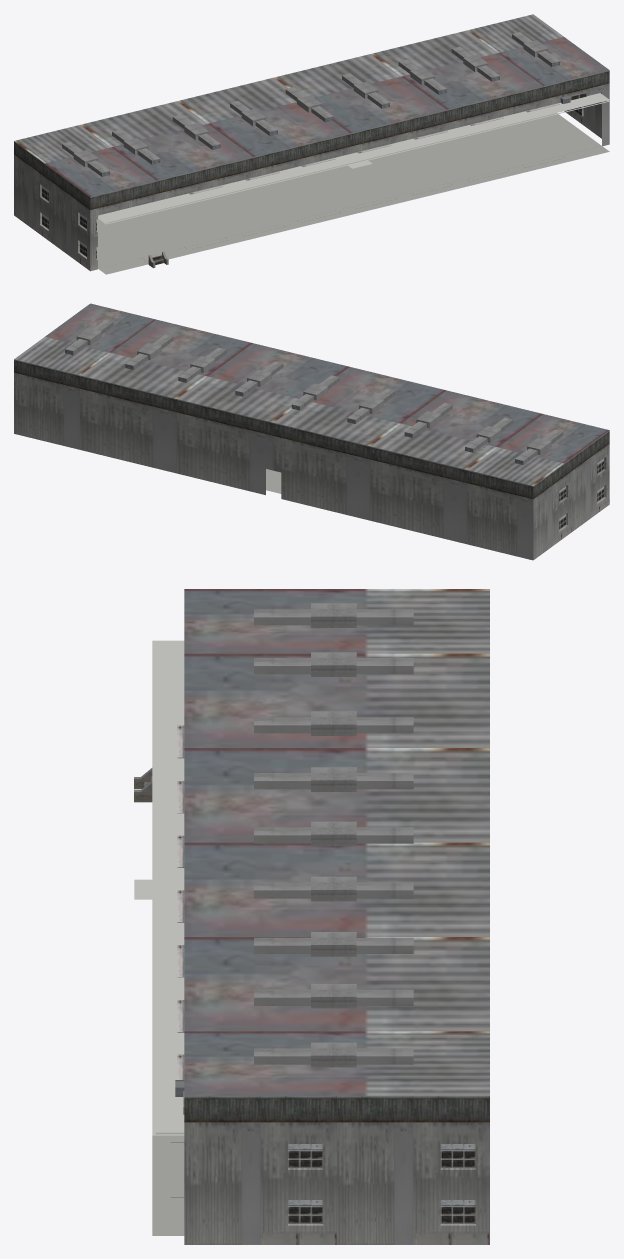
The model's file is ind-terminal.access-v8.lod1.glb.
3 renders of one model, top to bottom at view 1: azimuth 30°, elevation 25°; view 2: azimuth 150°, elevation 25°; view 3: azimuth 270°, elevation 25°, orthographic. The views are drawn at different scales.
Parts seen in each view (by area): view 1: Industrial_LogisticTerminal_1_Industrial_Walls_FLR_1_0, Walkable floors and stairs (×2), Industrial_LogisticTerminal_1_Industrial_Trim_FLR_1_0; view 2: Industrial_LogisticTerminal_1_Industrial_Walls_FLR_1_0, Industrial_LogisticTerminal_1_Industrial_Trim_FLR_1_0; view 3: Industrial_LogisticTerminal_1_Industrial_Walls_FLR_1_0, Industrial_LogisticTerminal_1_Industrial_Trim_FLR_1_0, Walkable floors and stairs (×2).
Boxes of the visible parts, <box> form: Industrial_LogisticTerminal_1_Industrial_Walls_FLR_1_0: <box>14,14,609,271</box>; Walkable floors and stairs (×2): <box>41,93,609,274</box>; Industrial_LogisticTerminal_1_Industrial_Trim_FLR_1_0: <box>42,32,586,268</box>; Industrial_LogisticTerminal_1_Industrial_Walls_FLR_1_0: <box>14,303,609,560</box>; Industrial_LogisticTerminal_1_Industrial_Trim_FLR_1_0: <box>65,320,604,529</box>; Industrial_LogisticTerminal_1_Industrial_Walls_FLR_1_0: <box>184,589,489,1244</box>; Industrial_LogisticTerminal_1_Industrial_Trim_FLR_1_0: <box>134,603,475,1223</box>; Walkable floors and stairs (×2): <box>134,640,184,1235</box>.
Size of the model in its own units: 53.43 by 7.88 by 15.85.
Materials: 4 (2 with a texture image).
